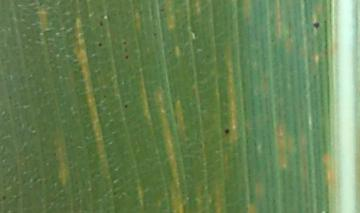tarspot: (311, 20, 321, 30), (157, 6, 168, 15), (222, 126, 232, 135), (122, 102, 131, 111), (97, 19, 106, 27), (95, 41, 104, 48), (151, 32, 160, 37), (123, 55, 132, 60), (122, 39, 128, 46), (123, 47, 130, 53), (1, 194, 7, 201)
